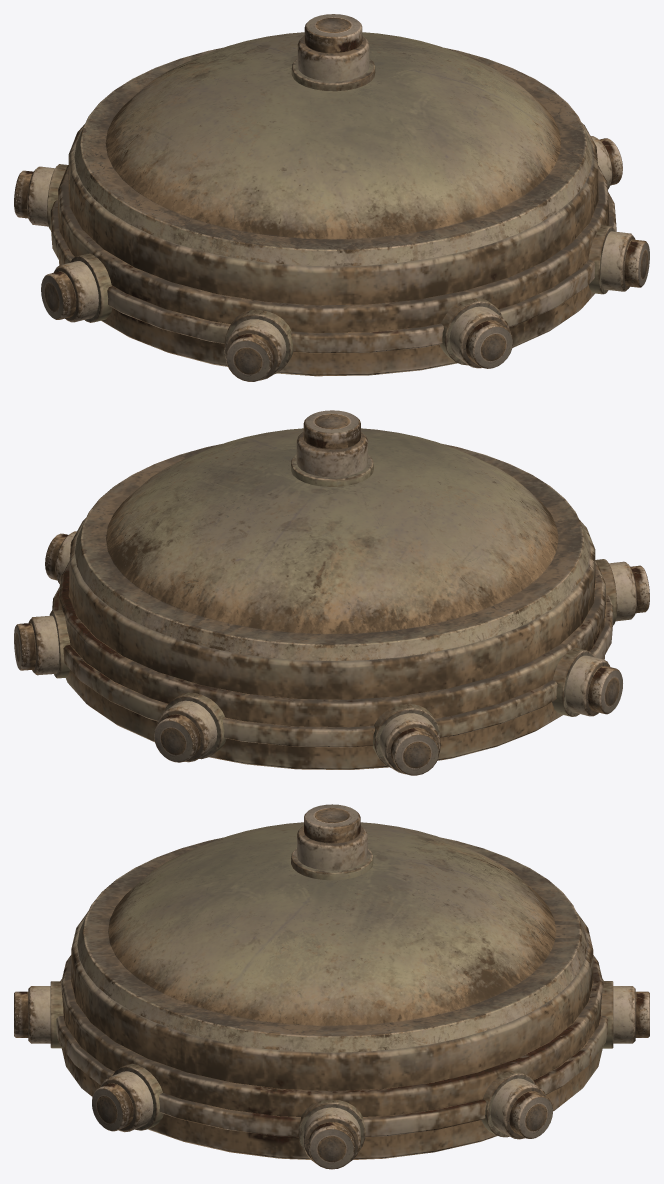
Rendered from SM_Cabel_Priemnik.fbx.
3 views of the same model, one above another, from view 1: azimuth 30°, elevation 25°; view 2: azimuth 150°, elevation 25°; view 3: azimuth 270°, elevation 25° (orthographic).
Visible parts, largest first — view 1: SM_Cabel_Priemnik; view 2: SM_Cabel_Priemnik; view 3: SM_Cabel_Priemnik.
Part boxes in pixels (x1,y1,x2,y2): SM_Cabel_Priemnik: [14, 14, 649, 381]; SM_Cabel_Priemnik: [14, 410, 649, 775]; SM_Cabel_Priemnik: [14, 804, 649, 1169].
Bounding box in the file's own units: 1.29 × 0.5192 × 1.29.
